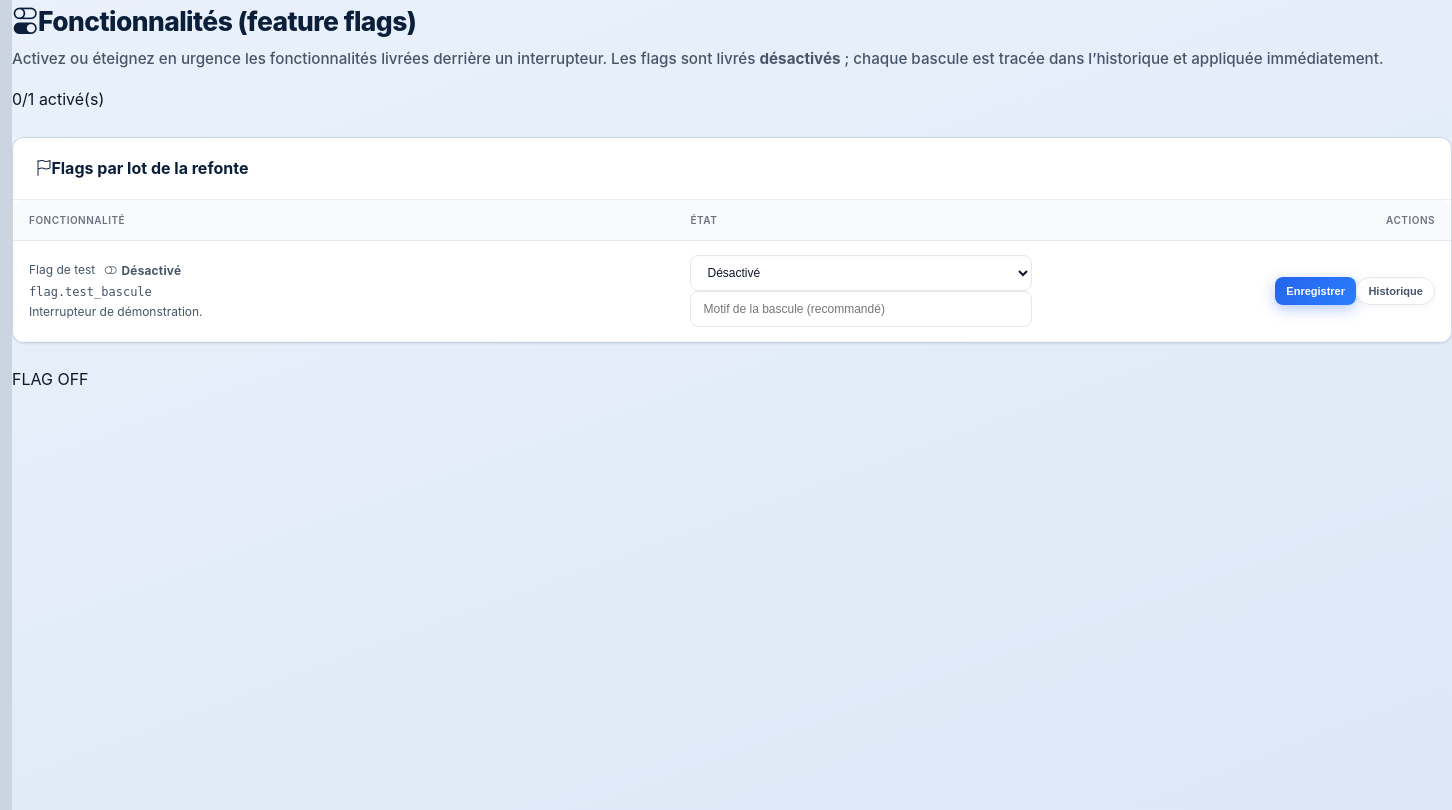
Scenario: pages/FeatureFlags.jsx — P00-08 › bascule un flag : PATCH historisable, effet immédiat sur useFlag
The width and height of the screenshot is (1452, 810).
Expected: the text "Flag de test" is shown, [29,263,95,278]
Select "Activé" in the dropdown named "État du flag flag.test_bascule": (861, 273) [690,255,1032,291]
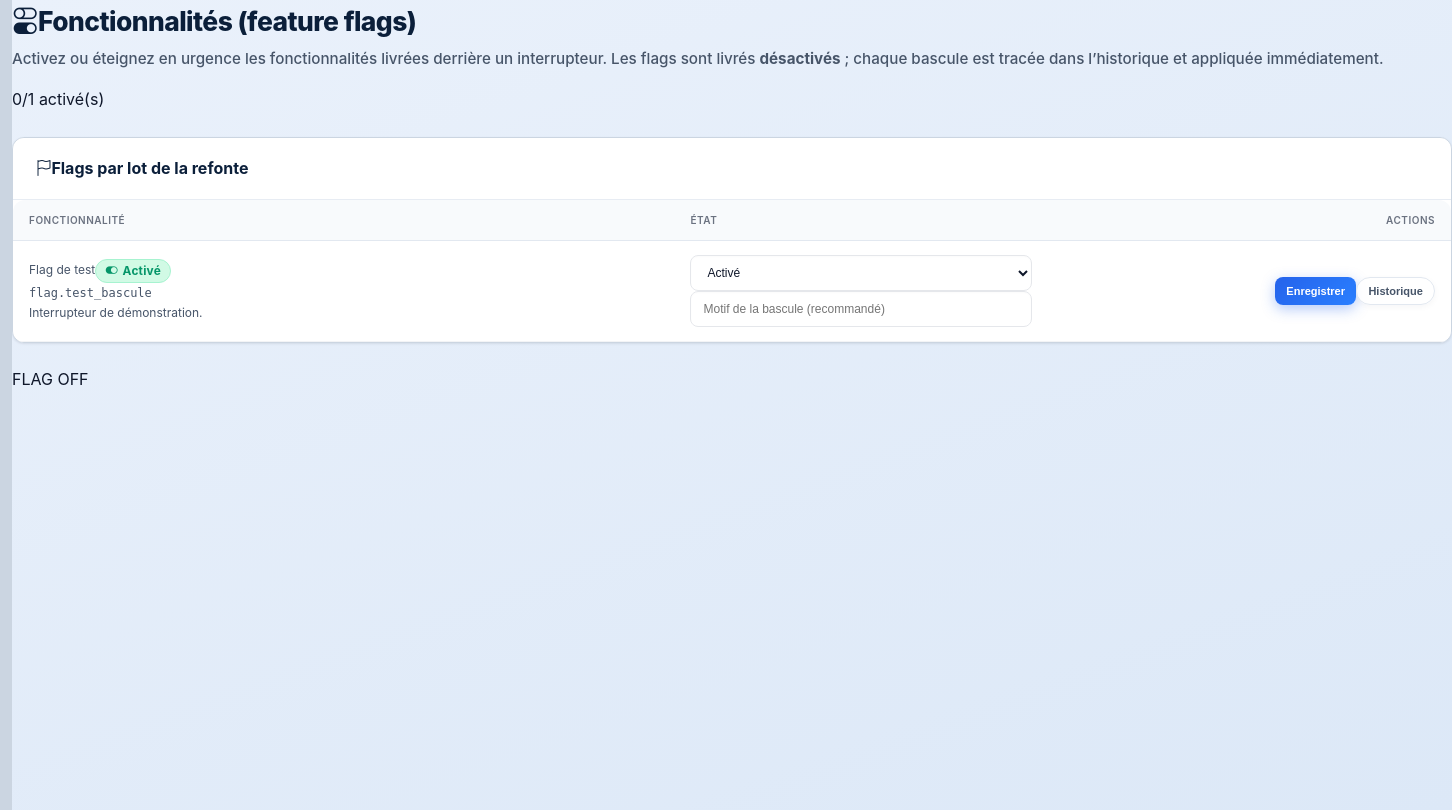
In the field with placeholder "Motif de la bascule (recommandé)": (861, 309) [690,291,1032,327], type "activation de démo"
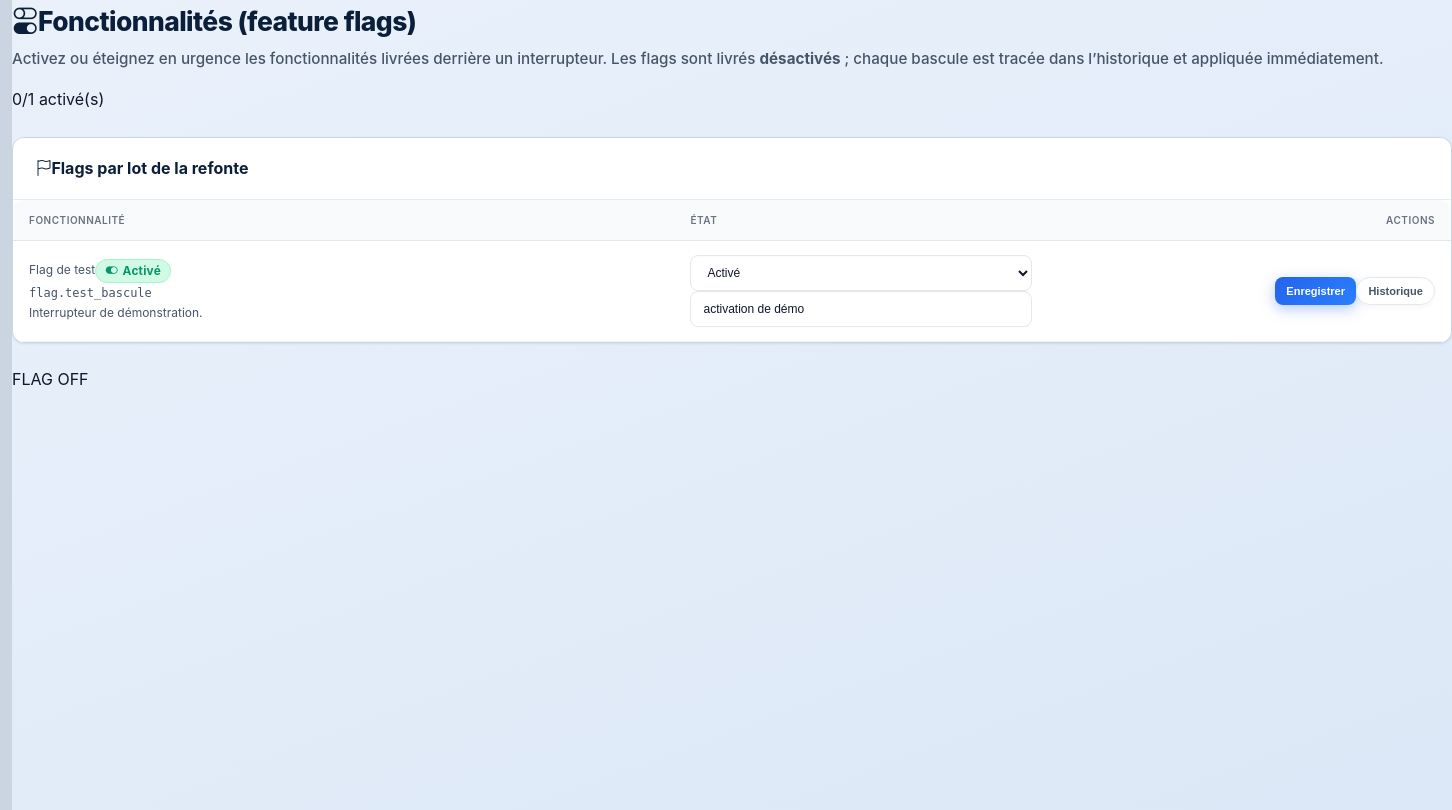
Click the button "Enregistrer": (1316, 291) [1275,277,1356,305]
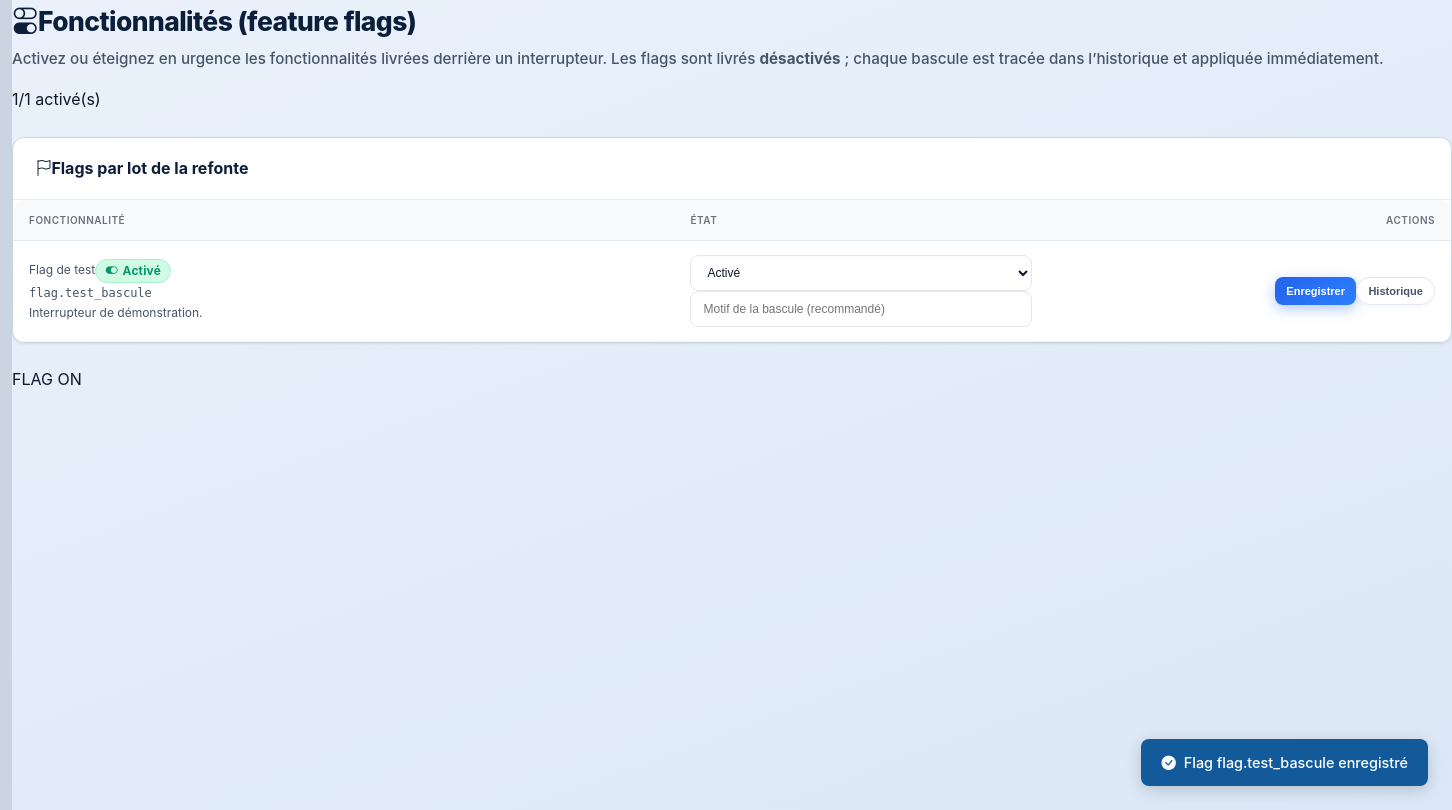
Expected: the text with test id "sonde" reads "FLAG ON", [12,369,82,389]
Expected: the text "1/1 activé(s)" is shown, [12,87,101,113]
